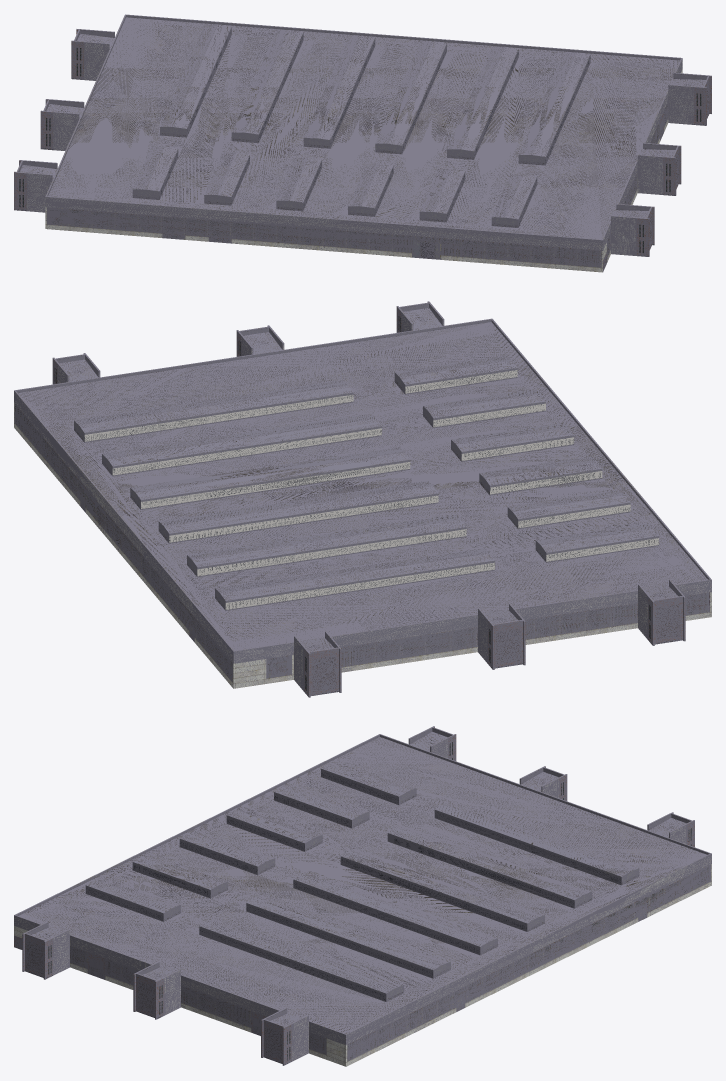
The model's file is Sklad2.fbx.
The picture shows the model from 3 angles, top to bottom: view 1: azimuth 30°, elevation 25°; view 2: azimuth 150°, elevation 25°; view 3: azimuth 270°, elevation 25°; orthographic projection. The views are drawn at different scales.
Visible parts, largest first — view 1: Group1, Component_3_2, Component_3_1, Component_3_3, Component_3_6, Component_3_5, Component_3_4; view 2: Group1, Component_3_6, Component_3_5, Component_3_4, Component_3_3, Component_3_1, Component_3_2; view 3: Group1, Component_3_2, Component_3_1, Component_3_3, Component_3_6, Component_3_5, Component_3_4.
Part boxes in pixels (x1=…): Group1: x1=45, y1=14, x2=682, y2=272; Component_3_2: x1=637, y1=143, x2=681, y2=195; Component_3_1: x1=610, y1=204, x2=654, y2=256; Component_3_3: x1=667, y1=72, x2=711, y2=125; Component_3_6: x1=14, y1=160, x2=58, y2=212; Component_3_5: x1=40, y1=99, x2=85, y2=150; Component_3_4: x1=71, y1=29, x2=115, y2=80; Group1: x1=14, y1=318, x2=711, y2=688; Component_3_6: x1=638, y1=579, x2=685, y2=645; Component_3_5: x1=478, y1=603, x2=525, y2=669; Component_3_4: x1=294, y1=631, x2=341, y2=697; Component_3_3: x1=52, y1=353, x2=100, y2=384; Component_3_1: x1=396, y1=301, x2=444, y2=332; Component_3_2: x1=236, y1=325, x2=284, y2=356; Group1: x1=14, y1=734, x2=711, y2=1066; Component_3_2: x1=133, y1=961, x2=180, y2=1019; Component_3_1: x1=22, y1=921, x2=69, y2=979; Component_3_3: x1=261, y1=1007, x2=308, y2=1065; Component_3_6: x1=408, y1=726, x2=456, y2=760; Component_3_5: x1=519, y1=766, x2=567, y2=800; Component_3_4: x1=647, y1=812, x2=694, y2=847.
Size of the model in its own units: 179 by 10.82 by 174.
